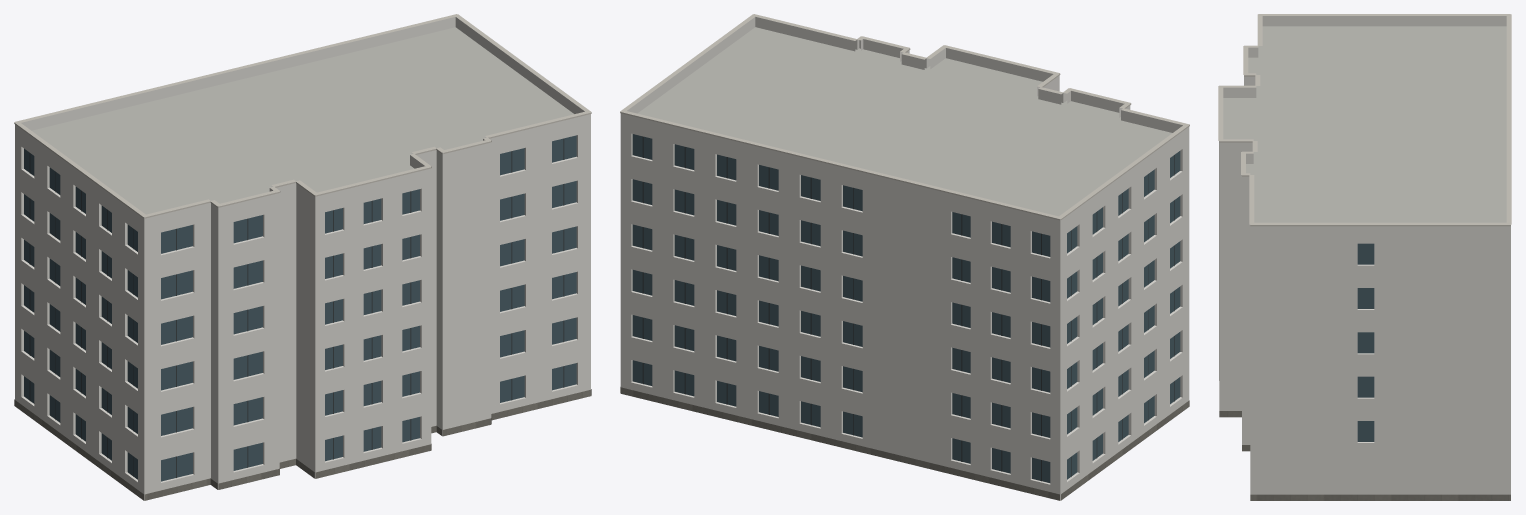
3 views of the same model, side by side, from view 1: azimuth 30°, elevation 25°; view 2: azimuth 150°, elevation 25°; view 3: azimuth 270°, elevation 25° (orthographic). The views are drawn at different scales.
Parts seen in each view (by area): view 1: humanitiesWest__wall, humanitiesWest__roof, humanitiesWest__glass, humanitiesWest__parapet, humanitiesWest__trim, humanitiesWest__base, humanitiesWest__frame; view 2: humanitiesWest__wall, humanitiesWest__roof, humanitiesWest__glass, humanitiesWest__parapet, humanitiesWest__trim, humanitiesWest__base, humanitiesWest__frame; view 3: humanitiesWest__wall, humanitiesWest__roof, humanitiesWest__parapet, humanitiesWest__trim, humanitiesWest__base, humanitiesWest__glass.
Part boxes in pixels (<box>): humanitiesWest__wall: <box>15,123,590,500</box>; humanitiesWest__roof: <box>32,27,573,478</box>; humanitiesWest__glass: <box>24,135,576,481</box>; humanitiesWest__parapet: <box>15,17,590,227</box>; humanitiesWest__trim: <box>14,14,591,218</box>; humanitiesWest__base: <box>14,389,591,500</box>; humanitiesWest__frame: <box>29,138,564,477</box>; humanitiesWest__wall: <box>620,84,1189,500</box>; humanitiesWest__roof: <box>637,27,1172,500</box>; humanitiesWest__glass: <box>632,134,1180,482</box>; humanitiesWest__parapet: <box>620,17,1189,229</box>; humanitiesWest__trim: <box>620,14,1189,220</box>; humanitiesWest__base: <box>620,387,1189,500</box>; humanitiesWest__frame: <box>642,136,1174,481</box>; humanitiesWest__wall: <box>1219,85,1510,494</box>; humanitiesWest__roof: <box>1223,26,1506,222</box>; humanitiesWest__parapet: <box>1219,16,1510,234</box>; humanitiesWest__trim: <box>1218,14,1511,226</box>; humanitiesWest__base: <box>1219,411,1510,500</box>; humanitiesWest__glass: <box>1357,243,1374,441</box>.
Size of the model in its own units: 35.7 by 21.82 by 20.99.
Materials: 7 (1 with a texture image).
